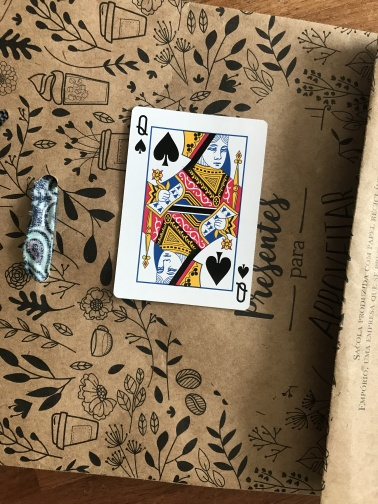queen: (112, 106, 270, 311)
